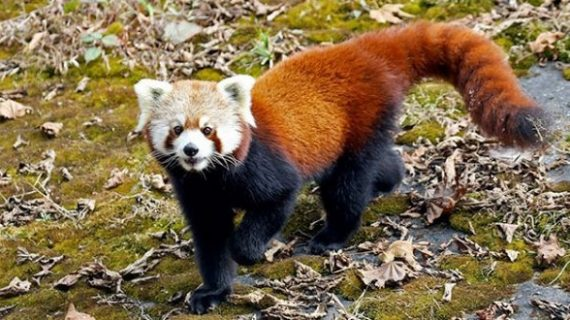red_panda: (126, 30, 520, 297)
